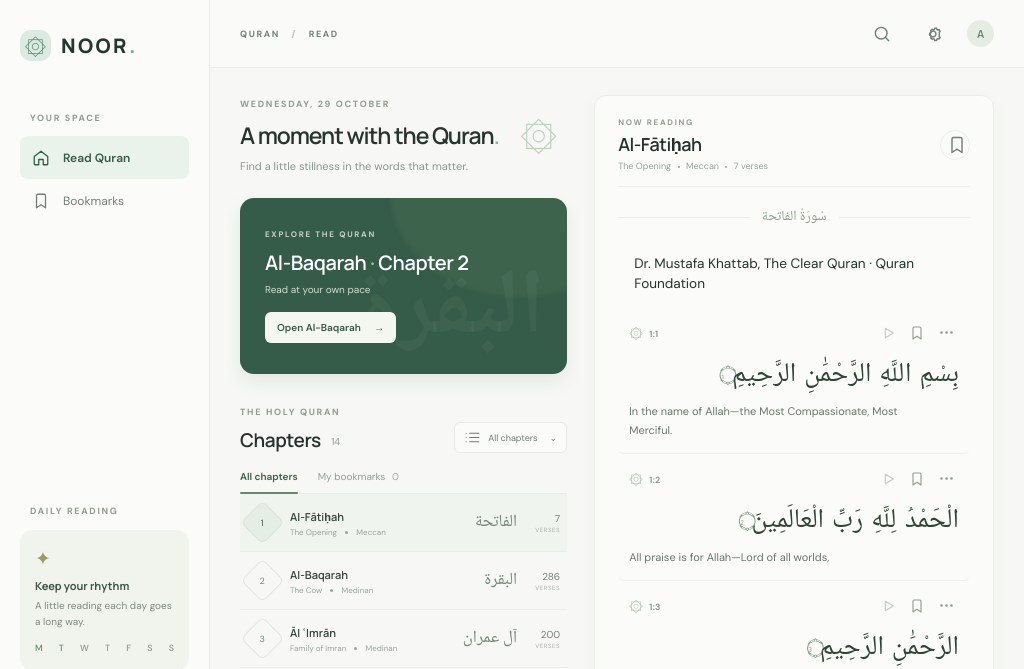
Test: Quran reader bookmarks › shows the saved verse’s chapter and number when My bookmarks is selected
Expected: the heading "Al-Fātiḥah" is shown, [618,132,702,156]
Click the button named "Bookmark verse 1" at (916, 333), box [903,320,930,346]
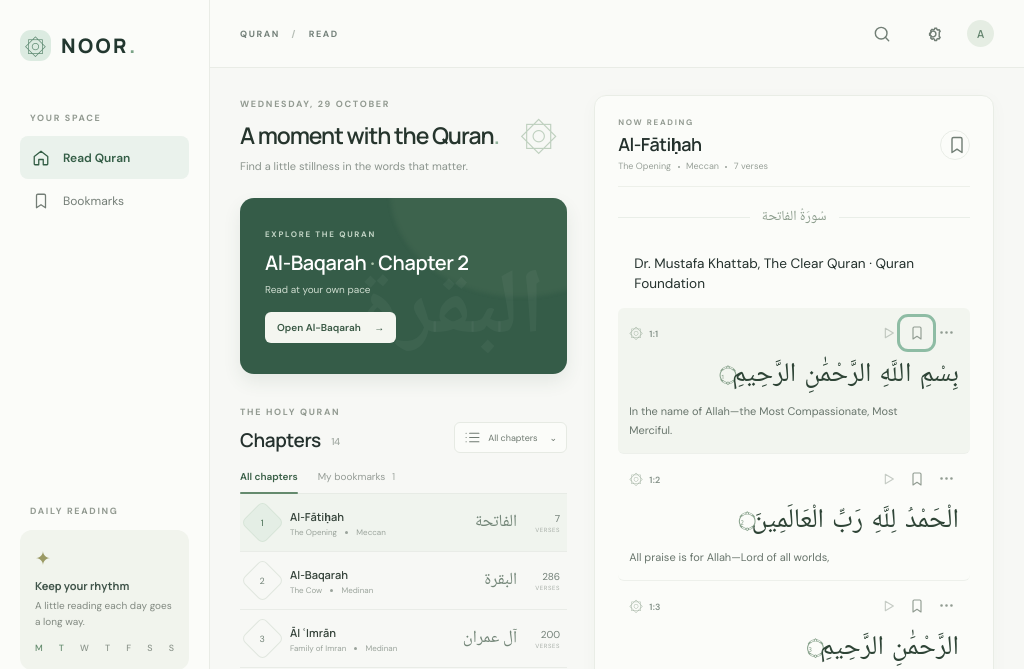
Click the button "My bookmarks 1" at (356, 482), box [318,470,395,493]
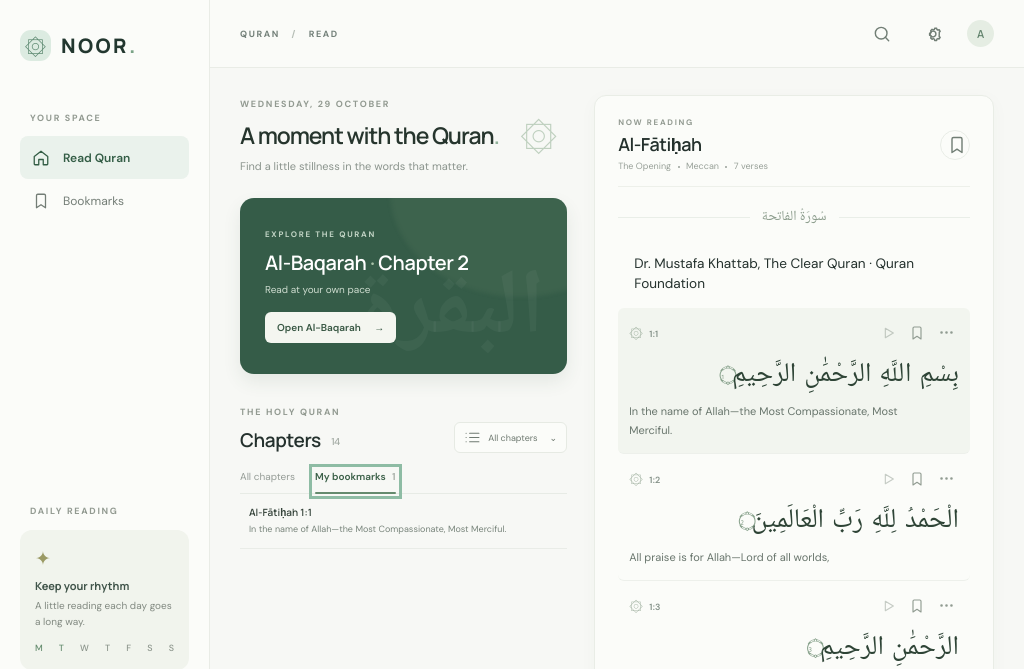
Expected: the button "Al-Fātiḥah 1:1" is shown, [240,494,567,548]
